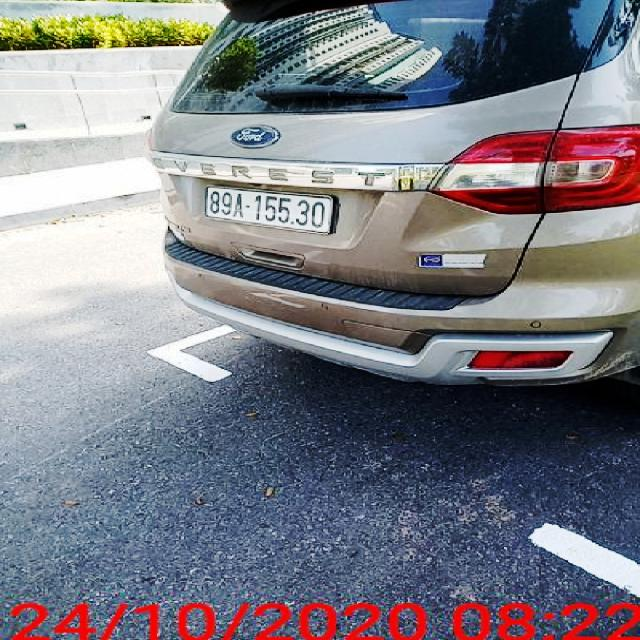license_plate: (203, 186, 337, 234)
